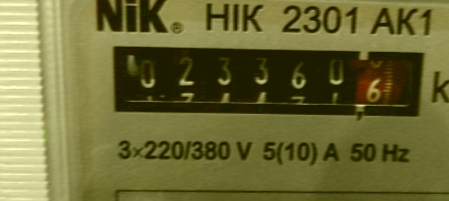0: (136, 55, 158, 89), (328, 55, 345, 86)
2: (174, 53, 198, 87)
3: (213, 54, 234, 86), (252, 53, 271, 85)
6: (287, 57, 308, 89), (362, 73, 384, 103)
screen: (94, 28, 437, 131)
